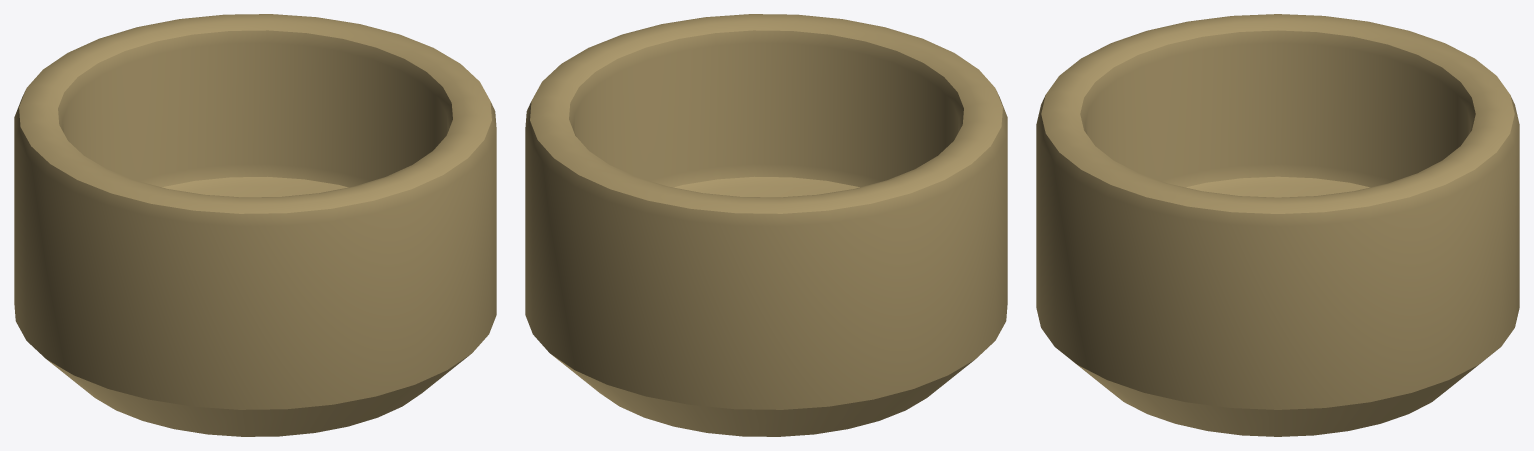
Rendered from PotA.fbx.
3 renders of one model, left to right at view 1: azimuth 30°, elevation 25°; view 2: azimuth 150°, elevation 25°; view 3: azimuth 270°, elevation 25°, orthographic.
Visible parts, largest first — view 1: PotA; view 2: PotA; view 3: PotA.
Part boxes in pixels (x1=…): PotA: x1=14, y1=14, x2=496, y2=436; PotA: x1=525, y1=14, x2=1007, y2=436; PotA: x1=1036, y1=14, x2=1519, y2=436.
Size of the model in its own units: 80 by 45.48 by 80.
